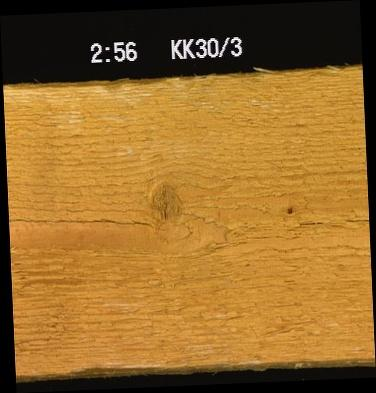small_knot: (281, 201, 296, 214)
split: (9, 215, 169, 236), (291, 216, 368, 226)
wave: (63, 351, 158, 376), (3, 79, 182, 91)
